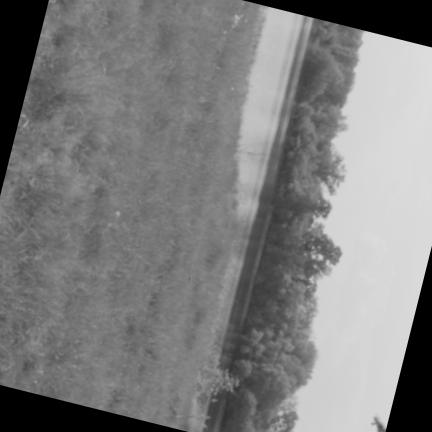Shahed: (188, 273, 190, 283)
